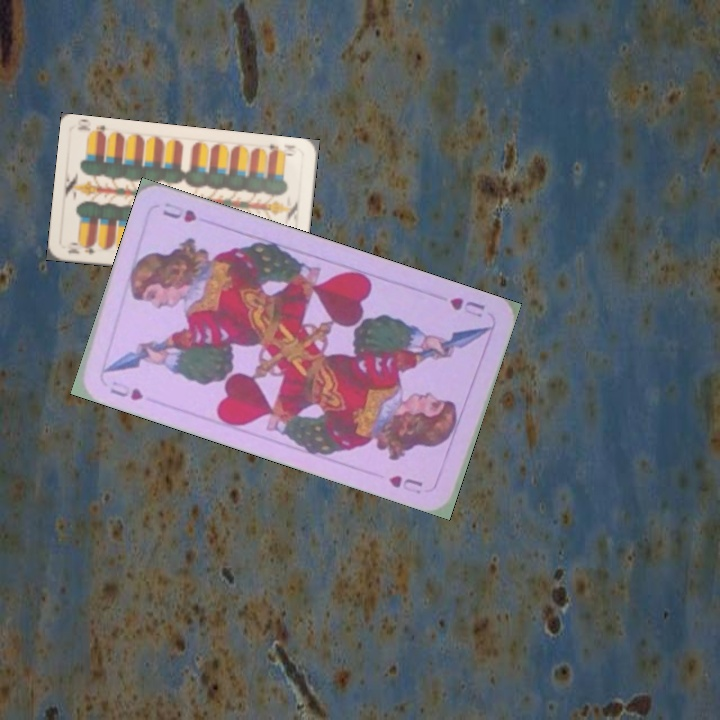E10: (262, 139, 299, 159), (63, 238, 98, 257)
HU: (445, 293, 488, 321), (106, 376, 146, 403)
